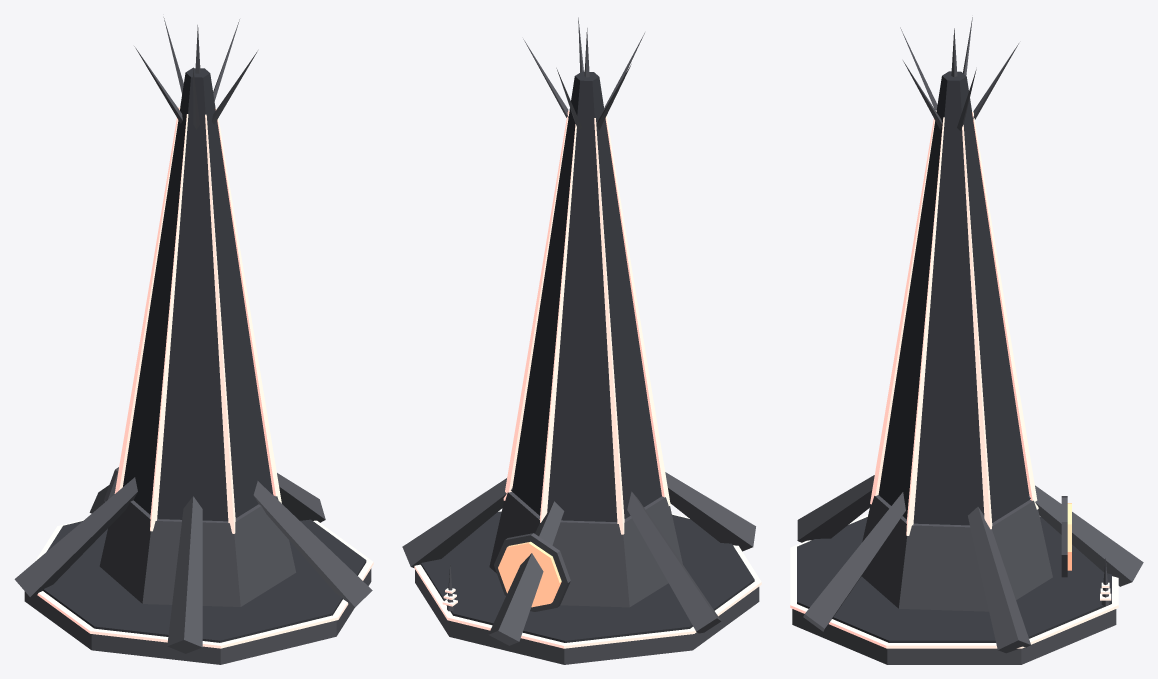
Rendered from zone_high_1_t3.glb.
3 renders of one model, left to right at view 1: azimuth 30°, elevation 25°; view 2: azimuth 150°, elevation 25°; view 3: azimuth 270°, elevation 25°, orthographic.
Parts seen in each view (by area): view 1: zone_high_1_t3; view 2: zone_high_1_t3; view 3: zone_high_1_t3.
Part boxes in pixels (<box>): zone_high_1_t3: <box>14,17,373,664</box>; zone_high_1_t3: <box>402,17,761,664</box>; zone_high_1_t3: <box>790,17,1143,664</box>.
Bounding box in the file's own units: 30.01 × 52.45 × 29.45.
